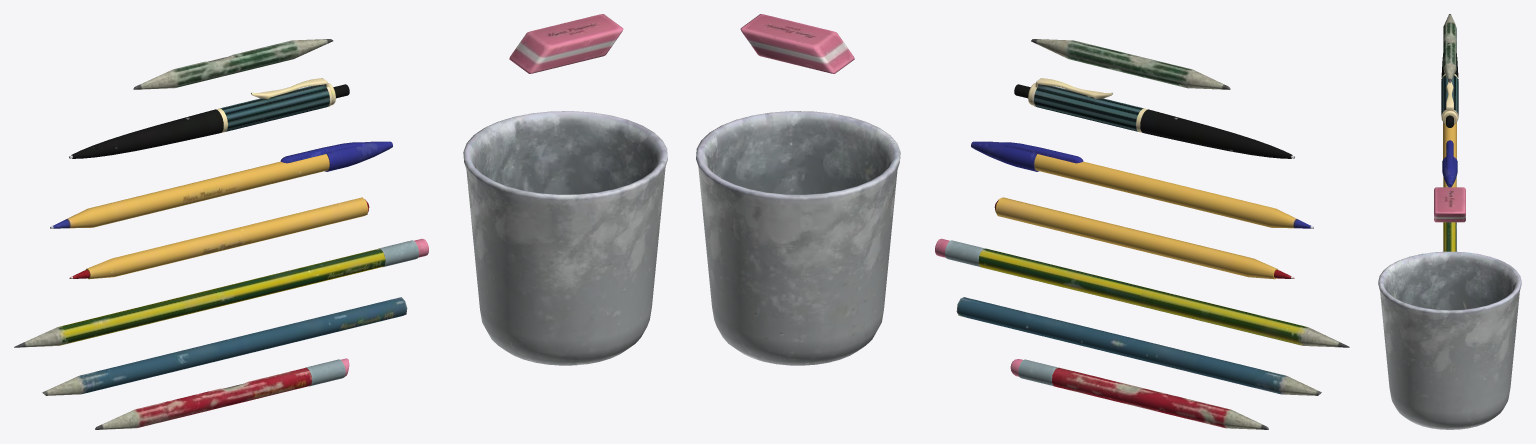
Rendered from stationery_supplies.glb.
3 renders of one model, left to right at view 1: azimuth 30°, elevation 25°; view 2: azimuth 150°, elevation 25°; view 3: azimuth 270°, elevation 25°, orthographic. The views are drawn at different scales.
Parts seen in each view (by area): view 1: stationery_supplies_pencilcup, stationery_supplies_pencil_new_a, stationery_supplies_pencil_new_b, stationery_supplies_pen_blue, stationery_supplies_pen_fancy, stationery_supplies_pen_red, stationery_supplies_pencil_used, stationery_supplies_eraser, stationery_supplies_pencil_old; view 2: stationery_supplies_pencilcup, stationery_supplies_pencil_new_a, stationery_supplies_pencil_new_b, stationery_supplies_pen_blue, stationery_supplies_pen_fancy, stationery_supplies_pen_red, stationery_supplies_pencil_used, stationery_supplies_eraser, stationery_supplies_pencil_old; view 3: stationery_supplies_pencilcup, stationery_supplies_eraser, stationery_supplies_pen_fancy, stationery_supplies_pen_blue, stationery_supplies_pencil_old, stationery_supplies_pencil_new_a.
Part boxes in pixels (x1,y1,x2,y2): stationery_supplies_pencilcup: (463,111,667,365); stationery_supplies_pencil_new_a: (14,238,428,347); stationery_supplies_pencil_new_b: (42,297,407,395); stationery_supplies_pen_blue: (50,141,392,228); stationery_supplies_pen_fancy: (69,78,349,158); stationery_supplies_pen_red: (69,197,369,279); stationery_supplies_pencil_used: (95,358,349,429); stationery_supplies_eraser: (509,14,623,73); stationery_supplies_pencil_old: (133,39,333,89); stationery_supplies_pencilcup: (696,111,900,365); stationery_supplies_pencil_new_a: (935,238,1349,347); stationery_supplies_pencil_new_b: (956,297,1321,395); stationery_supplies_pen_blue: (971,141,1313,228); stationery_supplies_pen_fancy: (1014,78,1294,158); stationery_supplies_pen_red: (994,197,1294,279); stationery_supplies_pencil_used: (1010,359,1268,429); stationery_supplies_eraser: (740,14,854,73); stationery_supplies_pencil_old: (1031,39,1230,89); stationery_supplies_pencilcup: (1378,251,1521,429); stationery_supplies_eraser: (1434,187,1465,222); stationery_supplies_pen_fancy: (1441,53,1458,127); stationery_supplies_pen_blue: (1442,122,1457,187); stationery_supplies_pencil_old: (1443,14,1456,82); stationery_supplies_pencil_new_a: (1443,222,1456,251).
Bounding box in the file's own units: 0.3019 × 0.1643 × 0.0837.
1 material, 1 textured.
